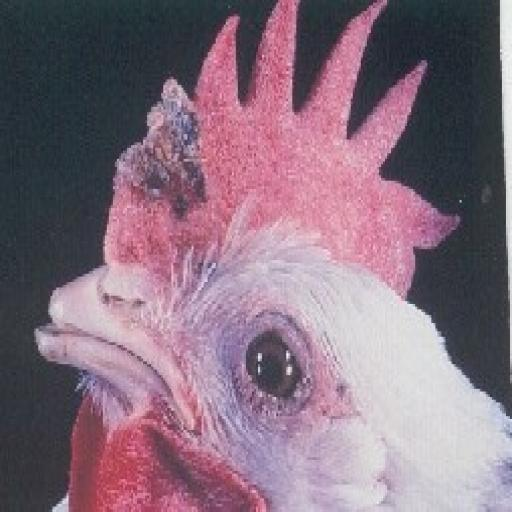disease: (102, 55, 217, 224), (202, 304, 332, 410)
